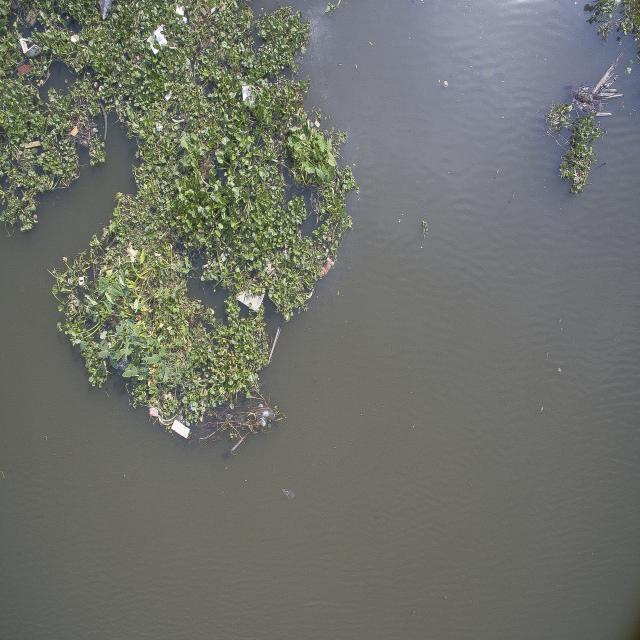plastic: (235, 272, 265, 324), (14, 31, 49, 73), (169, 409, 203, 450), (141, 397, 175, 437), (141, 25, 175, 62), (238, 76, 262, 112), (91, 0, 120, 28), (174, 0, 192, 24), (161, 87, 177, 106), (69, 30, 84, 47), (154, 120, 167, 137)
